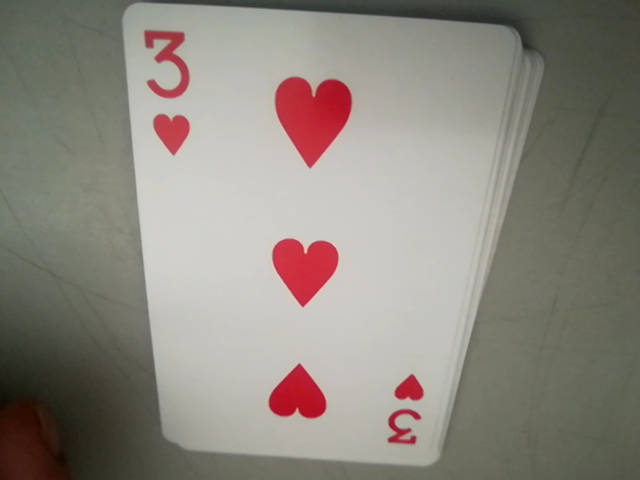hx 3: (140, 27, 202, 157), (381, 360, 431, 454)
